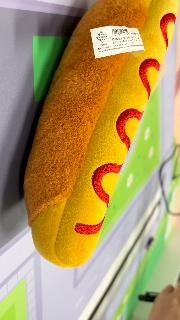hotdog: (22, 1, 178, 269)
